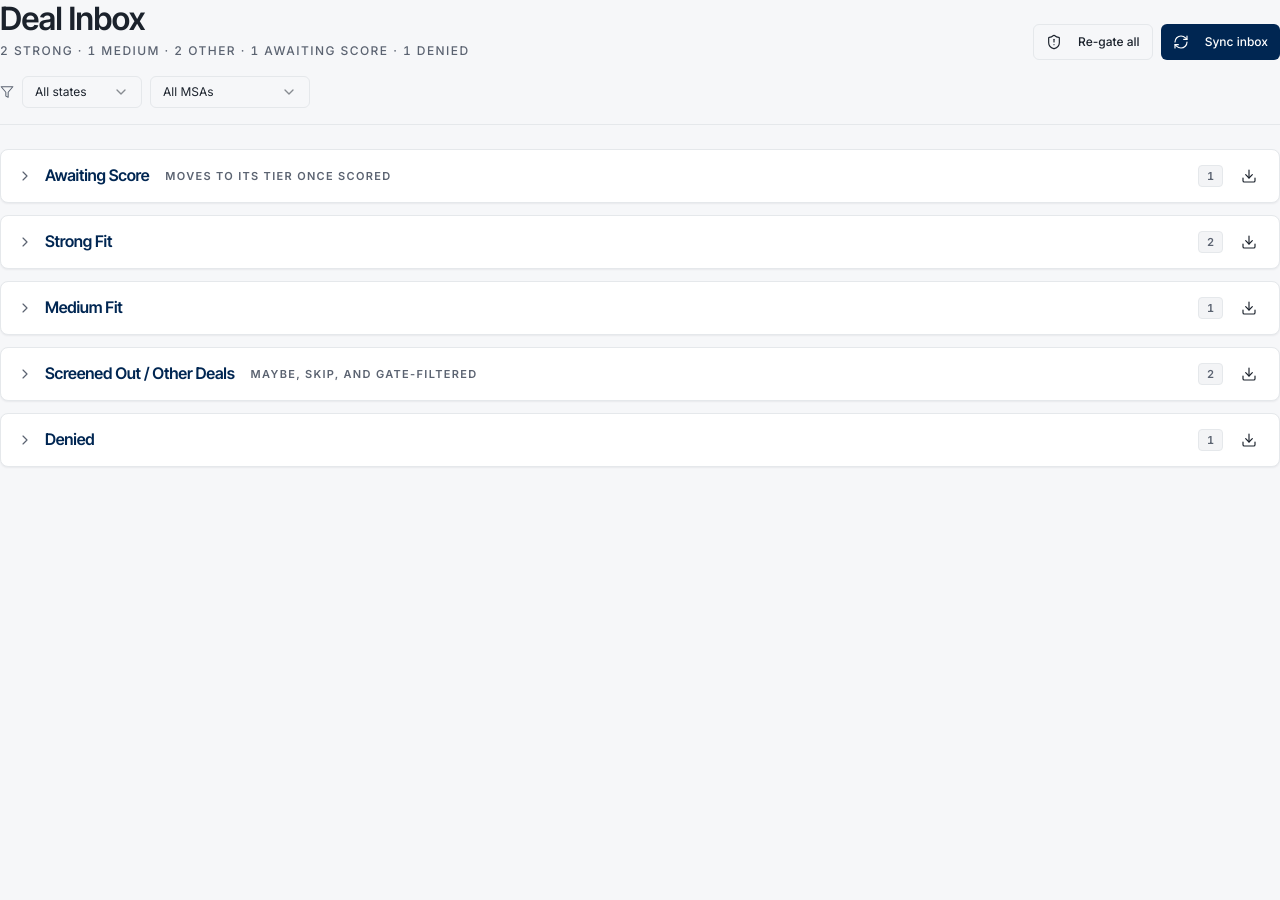
Test: Deal Inbox › keeps every tier collapsed until opened
Check: the 1st text "2" is shown, box [1198,230,1223,253]
Check: the text "Unscored One" is not shown
Click the heading "Awaiting Score" at (97, 176), box [45,163,149,188]
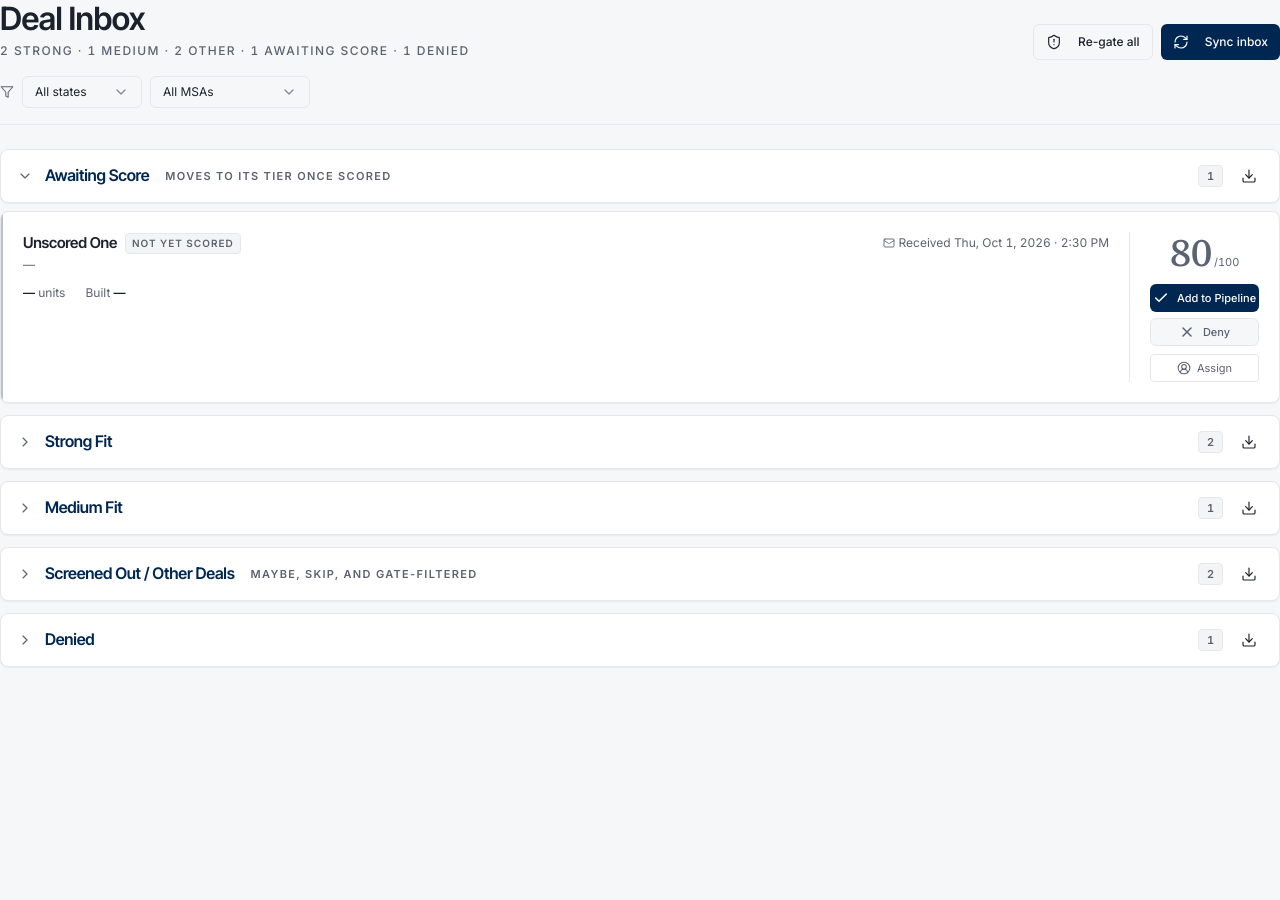
Check: the heading "Unscored One" is shown, box [23,232,117,254]
Click the heading "Screened Out / Other Deals" at (140, 574), box [45,561,235,586]
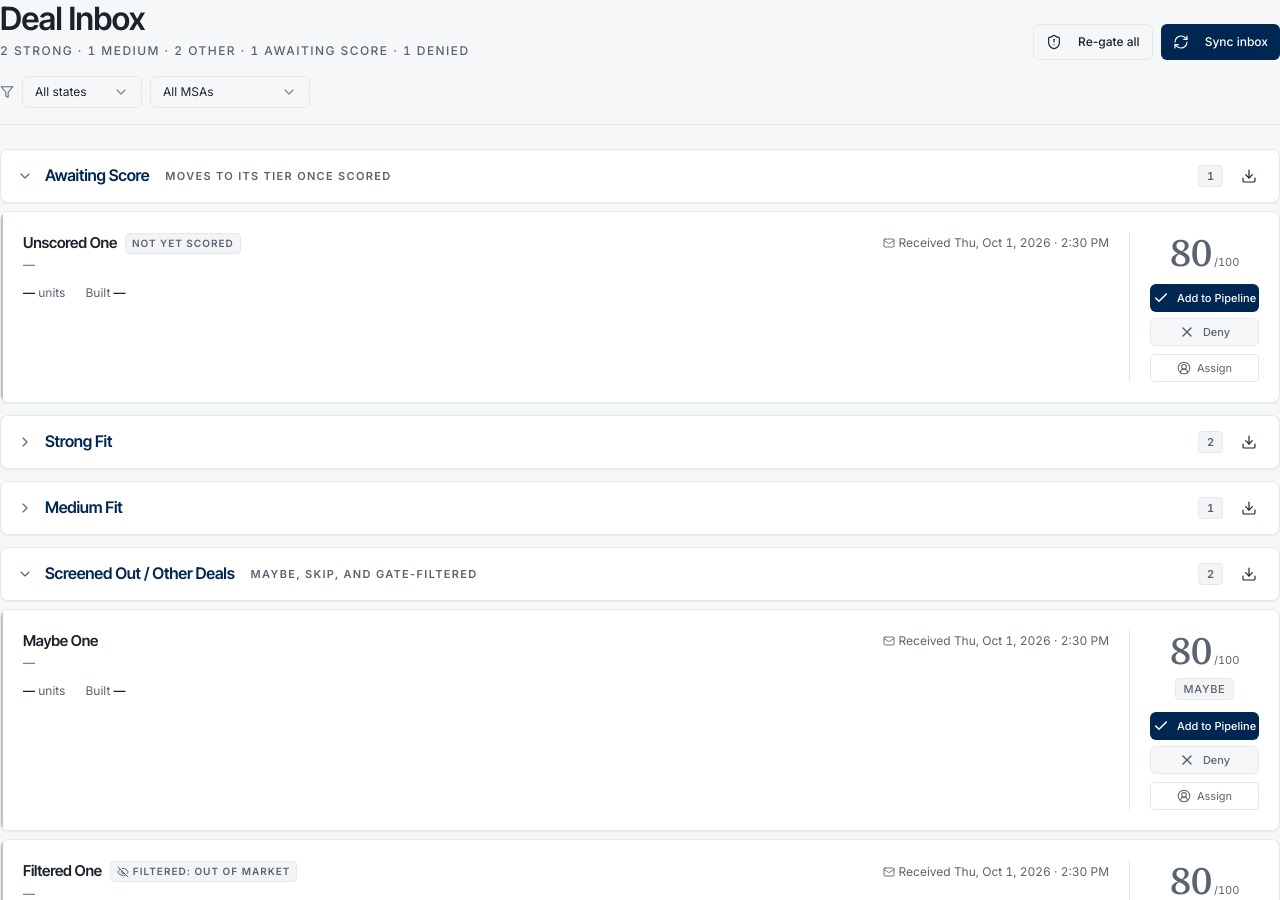
Check: the heading "Maybe One" is shown, box [23,630,98,652]
Check: the heading "Filtered One" is shown, box [23,860,102,883]
